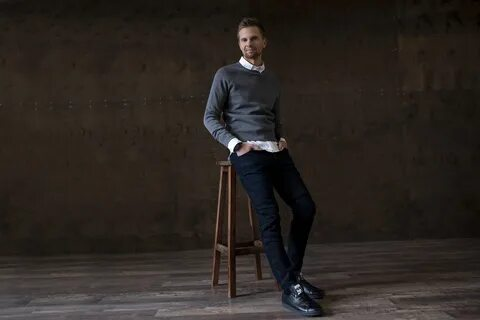awake: (202, 15, 326, 317)
